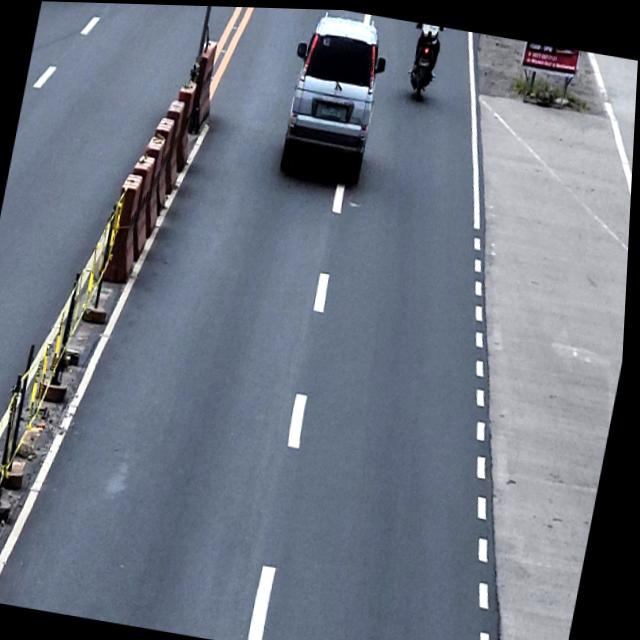Car: (274, 7, 394, 185)
License-Plate: (319, 99, 345, 119)
Motorcycle: (403, 20, 445, 100)
